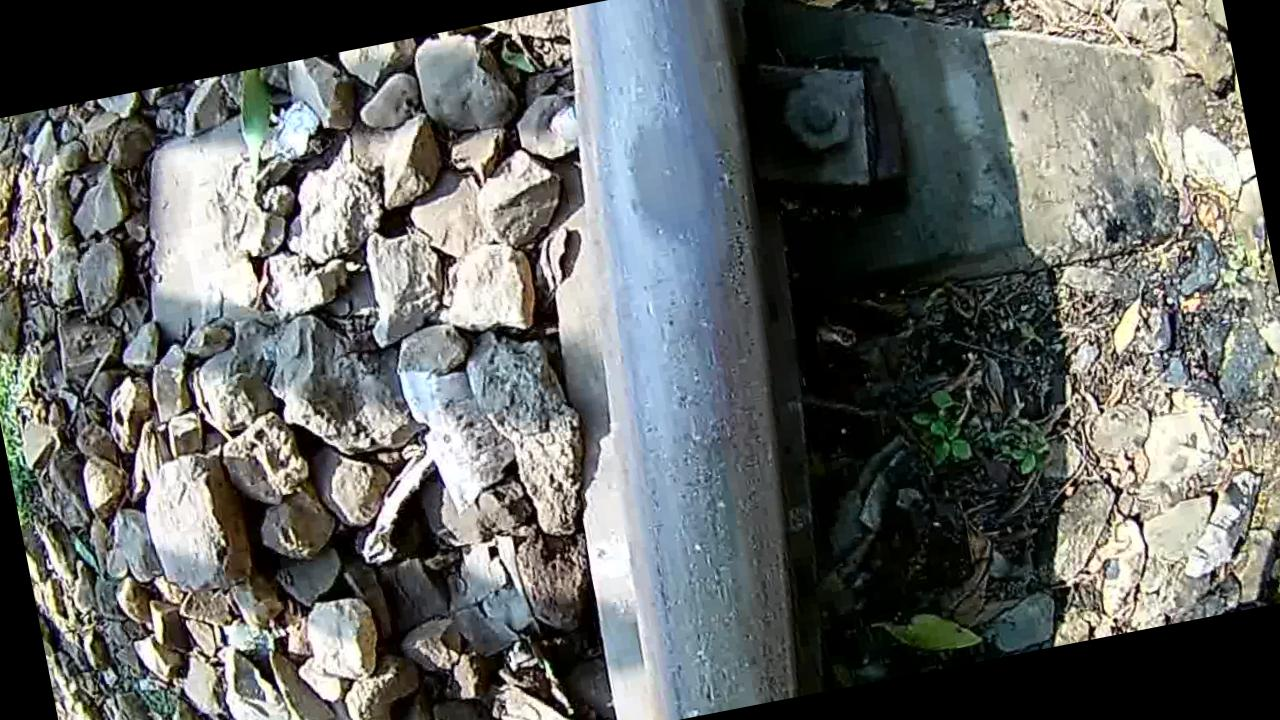bolt_missing: (551, 0, 792, 394)
